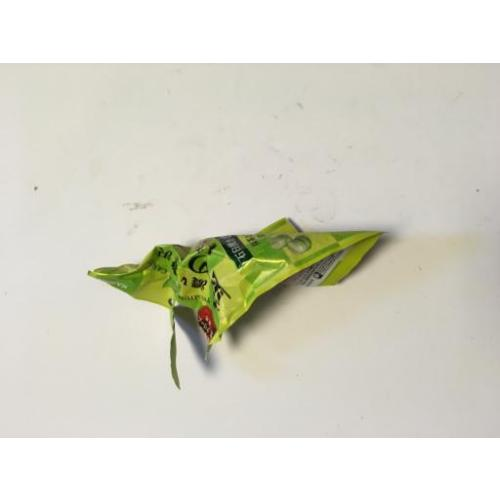plastic: (89, 230, 371, 341)
